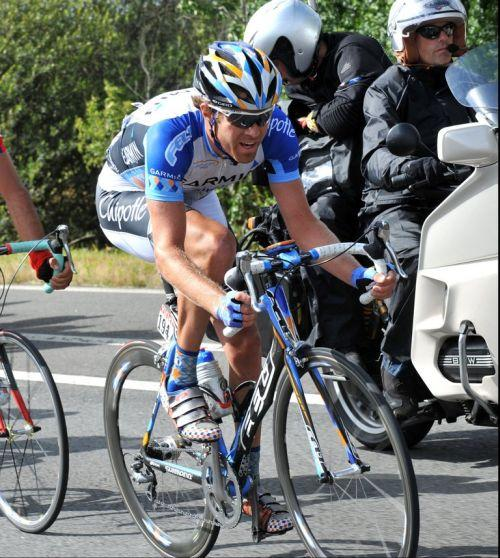person: (96, 40, 400, 536)
